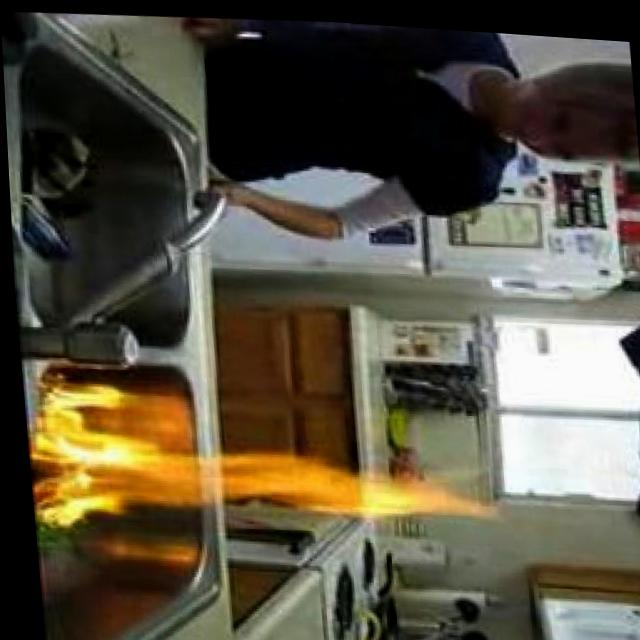helmet: (16, 361, 497, 548)
